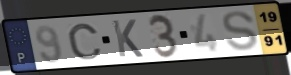3: (147, 12, 179, 60)
4: (192, 12, 221, 55)
9: (34, 24, 64, 64)
C: (66, 22, 105, 61)
K: (110, 18, 145, 59)
S: (221, 10, 260, 53)
